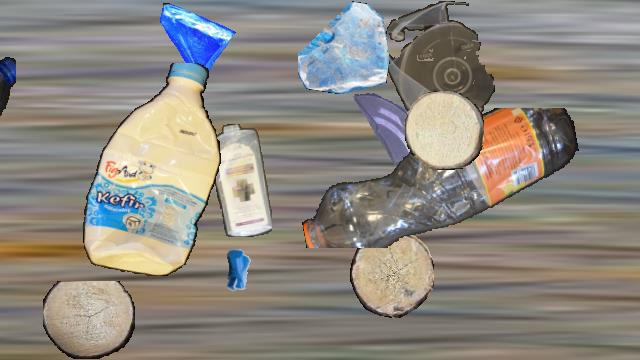glass: (298, 1, 390, 93), (349, 89, 433, 173), (154, 1, 236, 83)
metal: (208, 241, 270, 303)
plastic: (297, 108, 581, 248), (79, 63, 221, 275), (384, 1, 496, 133), (211, 124, 271, 236), (0, 50, 15, 190)
wood: (350, 232, 434, 318), (43, 281, 135, 359), (405, 91, 483, 169)
